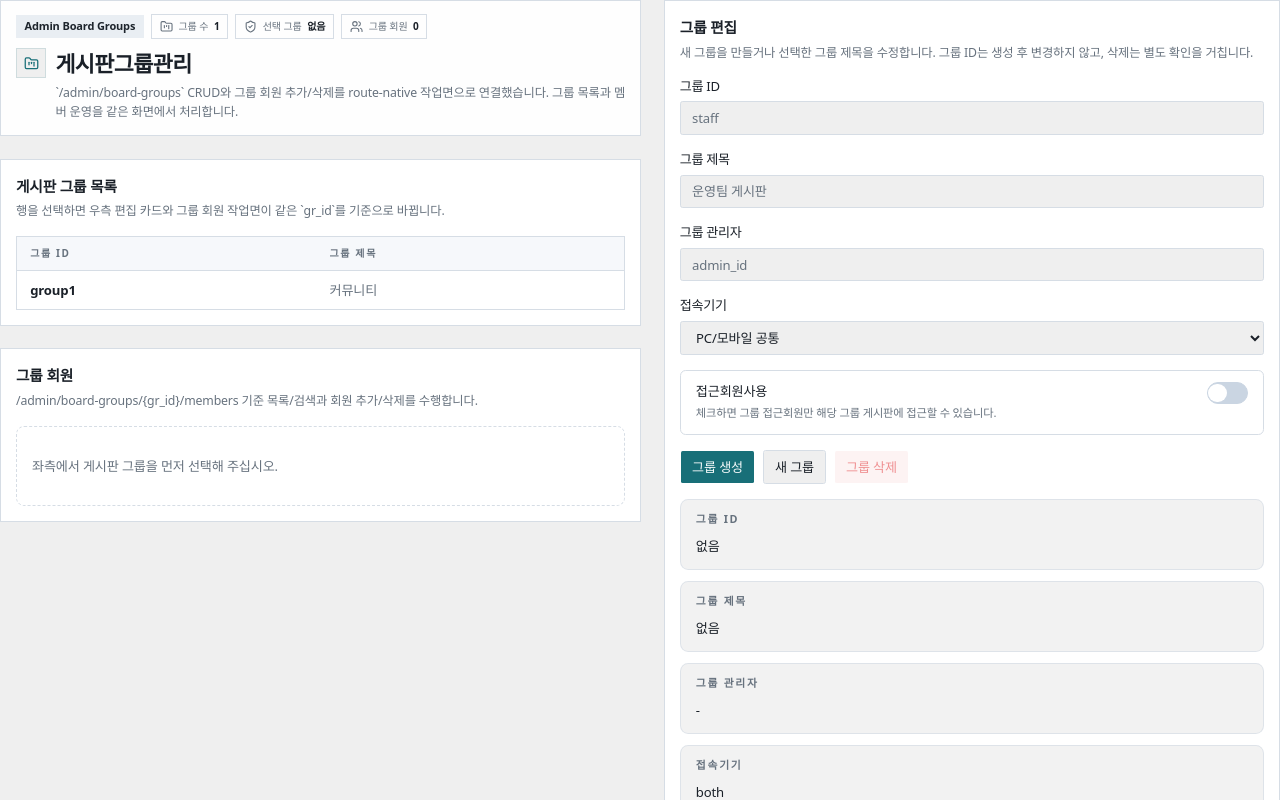
AdminBoardGroupsPage › shows validation when group create is submitted without required values
expect the text "커뮤니티" is shown: met, box [330, 281, 377, 299]
Click the button "그룹 생성".
click(718, 467)  # box [680, 450, 755, 484]
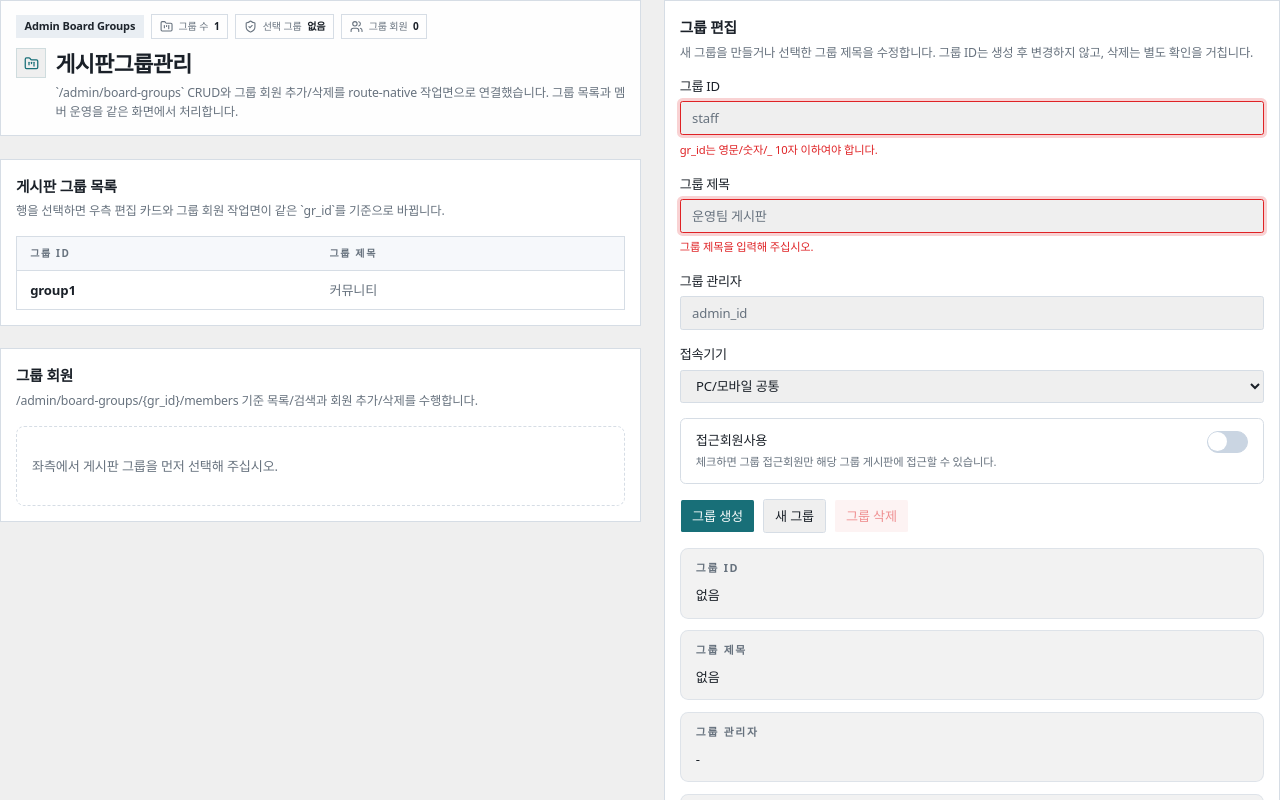
expect the text "gr_id는 영문/숫자/_ 10자 이하여야 합니다." is shown: met, box [680, 142, 878, 157]
expect the text "그룹 제목을 입력해 주십시오." is shown: met, box [680, 239, 813, 254]
